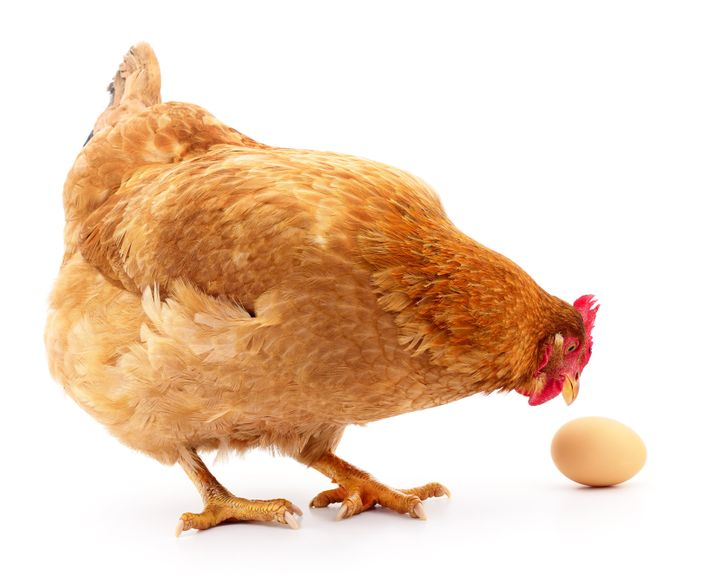Egg: (547, 410, 657, 496)
